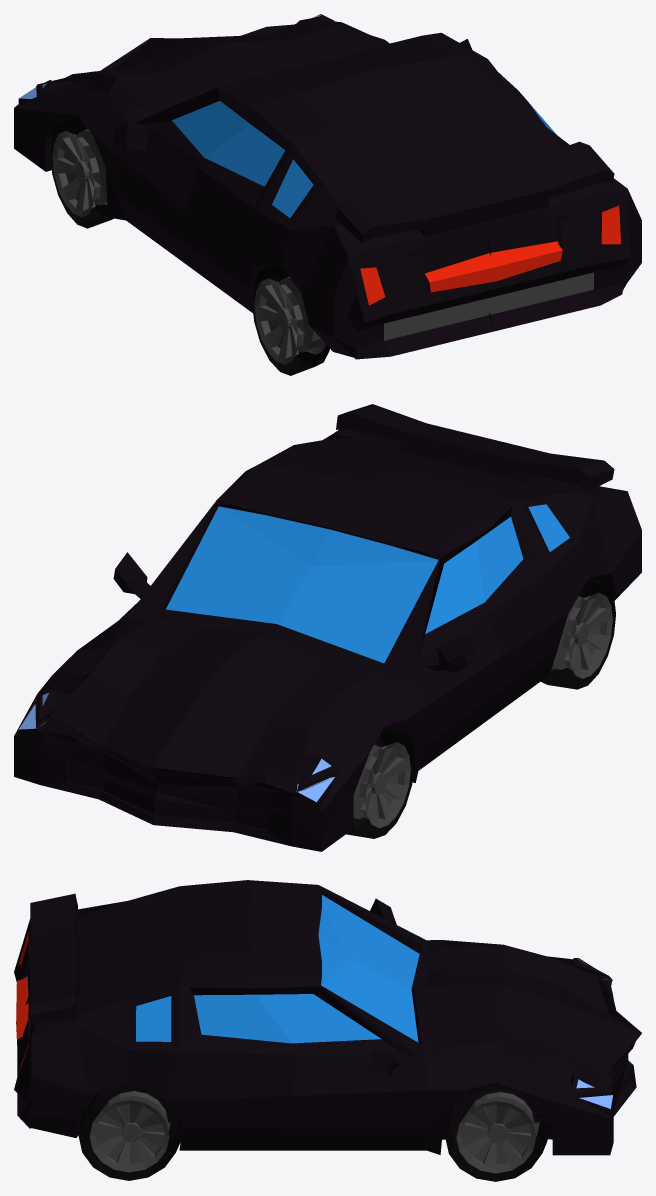
The model's file is SportsCarWithRedBackLight.fbx.
3 views of the same model, one above another, from view 1: azimuth 30°, elevation 25°; view 2: azimuth 150°, elevation 25°; view 3: azimuth 270°, elevation 25° (orthographic). The views are drawn at different scales.
Visible parts, largest first — view 1: Cube; view 2: Cube; view 3: Cube.
Part boxes in pixels (<box>): Cube: <box>14,14,641,375</box>; Cube: <box>14,404,641,851</box>; Cube: <box>14,880,641,1181</box>.
Size of what is drawn, in the model's own units: 279 by 161 by 472.
